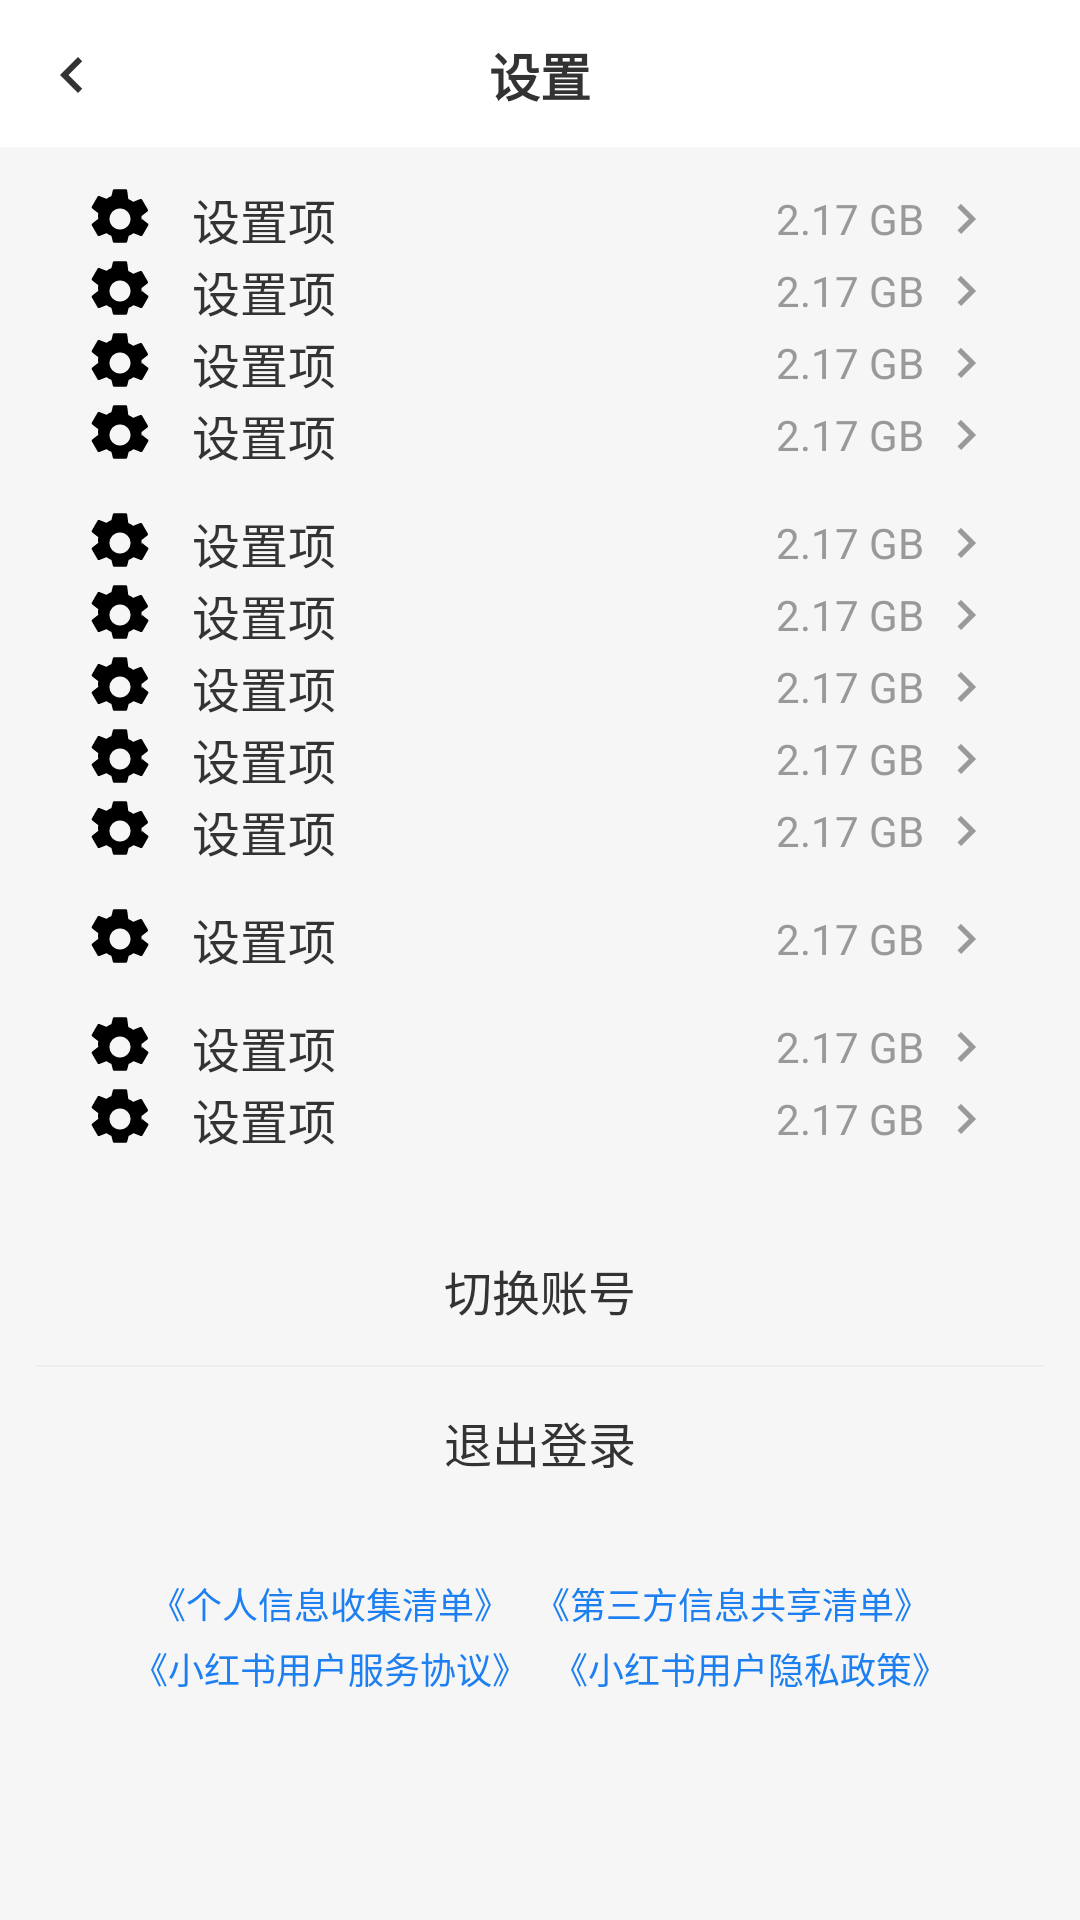

Icon click points for this 1080×1920 phone screenshot, format (x=x, y=y):
back: (x=71, y=75)
